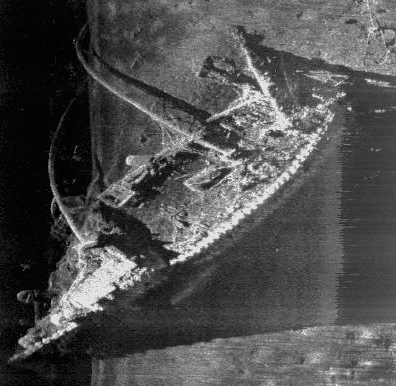ship: (7, 30, 348, 374)
